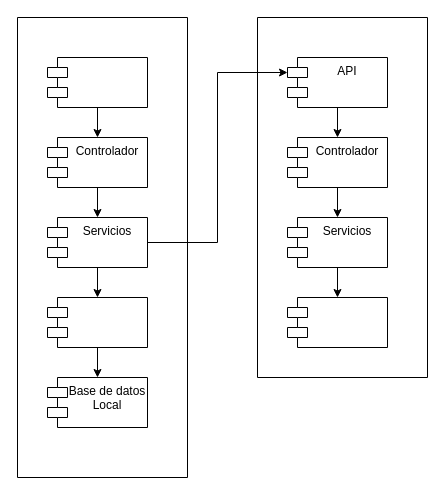
This 445x495 diagram has some shape labels left out. The box of each missing label's shape, as (x1, y1, x2, y2) in pixels:
Base de datos: (286, 296, 388, 348)
Modelo: (46, 296, 148, 348)
UI: (46, 56, 148, 108)
